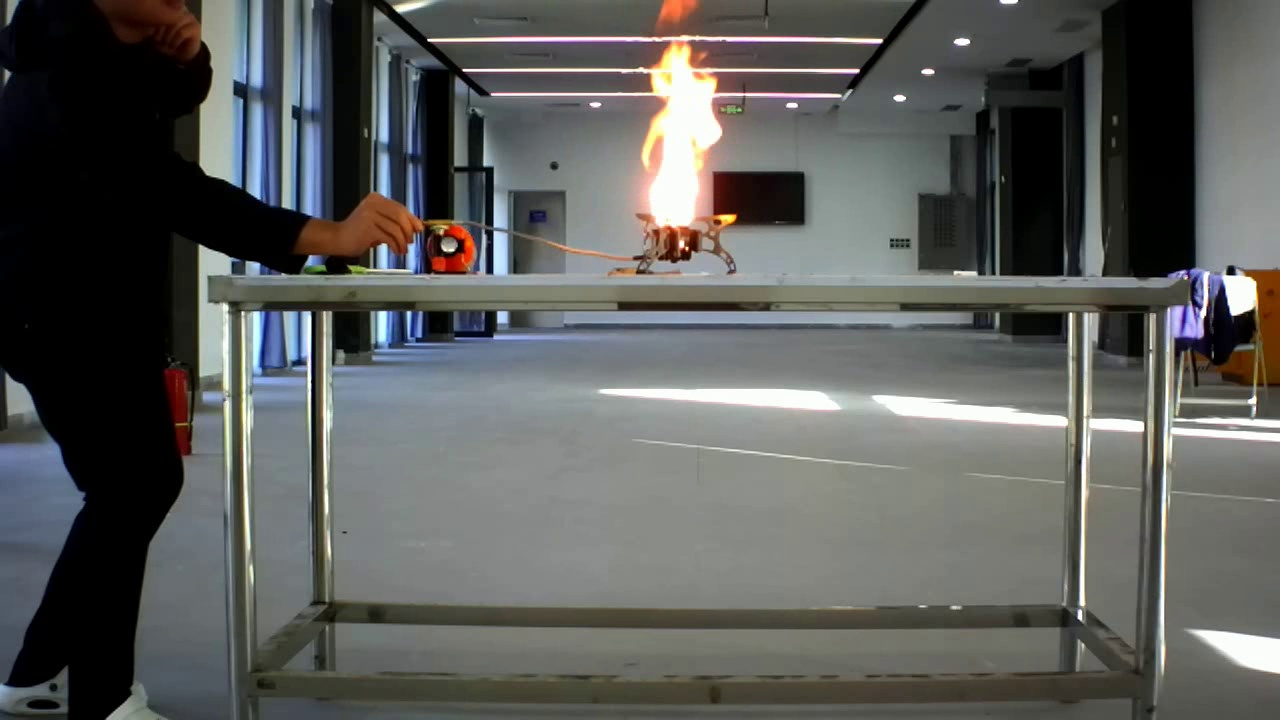Fire: (620, 0, 745, 262)
